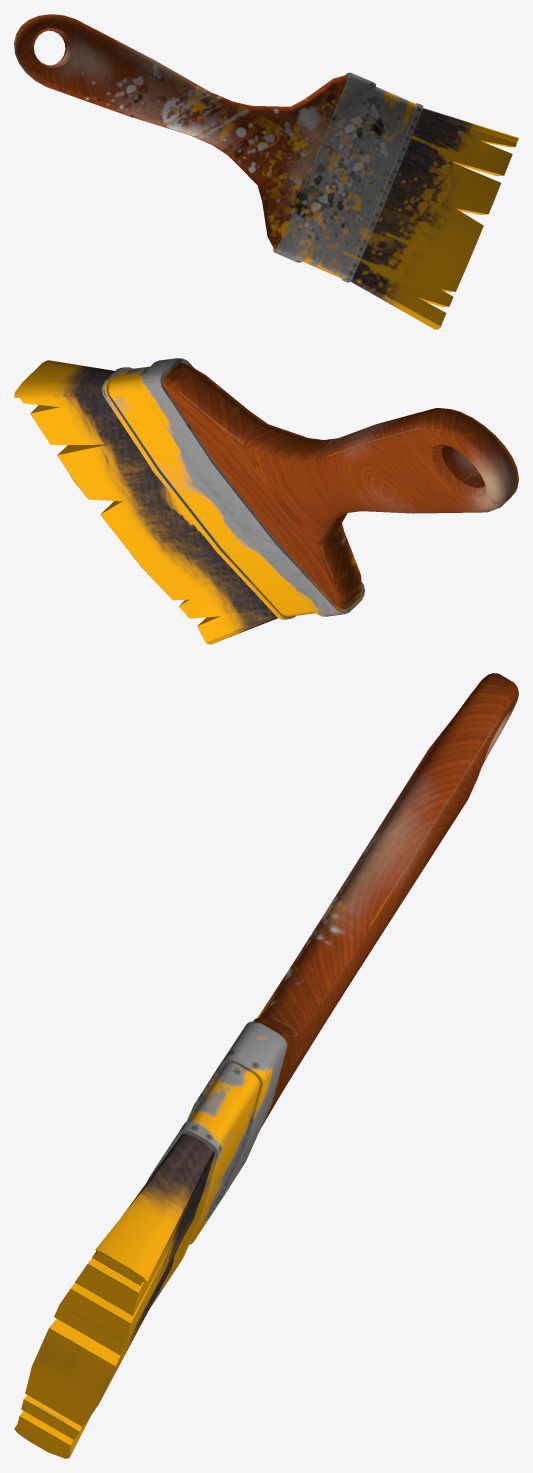
File: paint_brush.obj
3 views of the same model, one above another, from view 1: azimuth 30°, elevation 25°; view 2: azimuth 150°, elevation 25°; view 3: azimuth 270°, elevation 25° (orthographic). The views are drawn at different scales.
Visible parts, largest first — view 1: dynamic; view 2: dynamic; view 3: dynamic.
Part boxes in pixels (box(x1,y1,x2,y2)): dynamic: box(14, 14, 518, 329); dynamic: box(14, 358, 518, 644); dynamic: box(14, 673, 518, 1458).
Bounding box in the file's own units: 101 × 70.13 × 59.87.
1 material, 1 textured.
